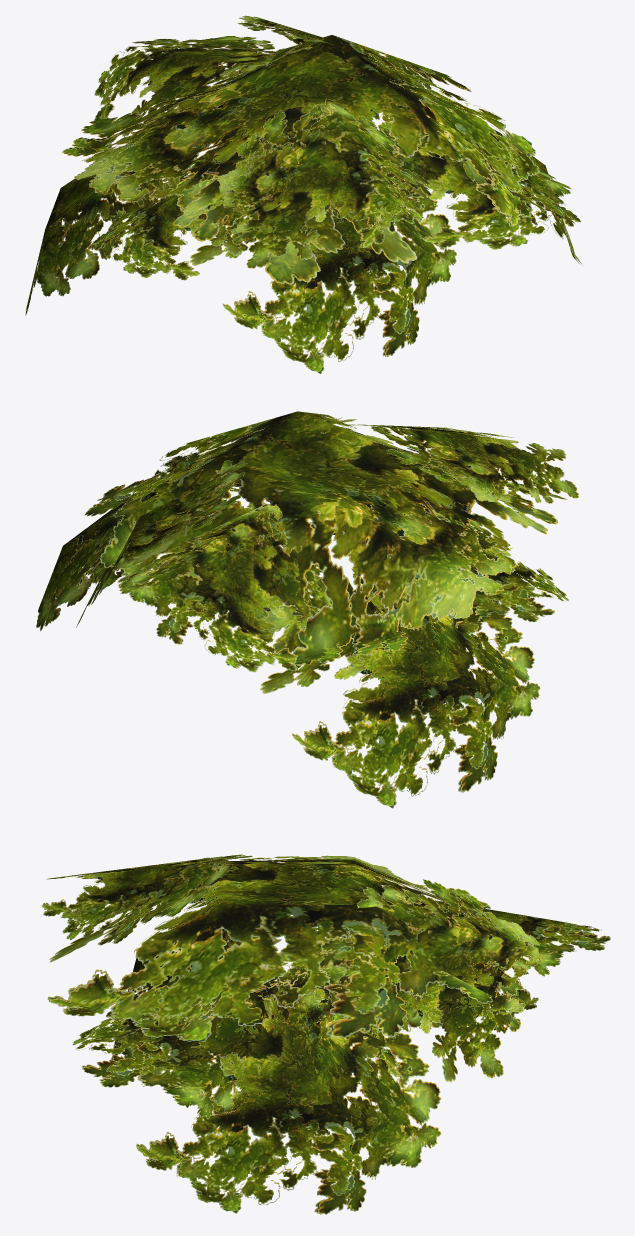
File: tree_leaf_acorn_40m.DAE
The picture shows the model from 3 angles, top to bottom: view 1: azimuth 30°, elevation 25°; view 2: azimuth 150°, elevation 25°; view 3: azimuth 270°, elevation 25°; orthographic projection. The views are drawn at different scales.
Visible parts, largest first — view 1: Plane06; view 2: Plane06; view 3: Plane06.
Part boxes in pixels (x1=…): Plane06: x1=25, y1=15, x2=582, y2=374; Plane06: x1=36, y1=411, x2=578, y2=808; Plane06: x1=42, y1=854, x2=610, y2=1214.
Bounding box in the file's own units: 91.71 × 45.09 × 95.24.
